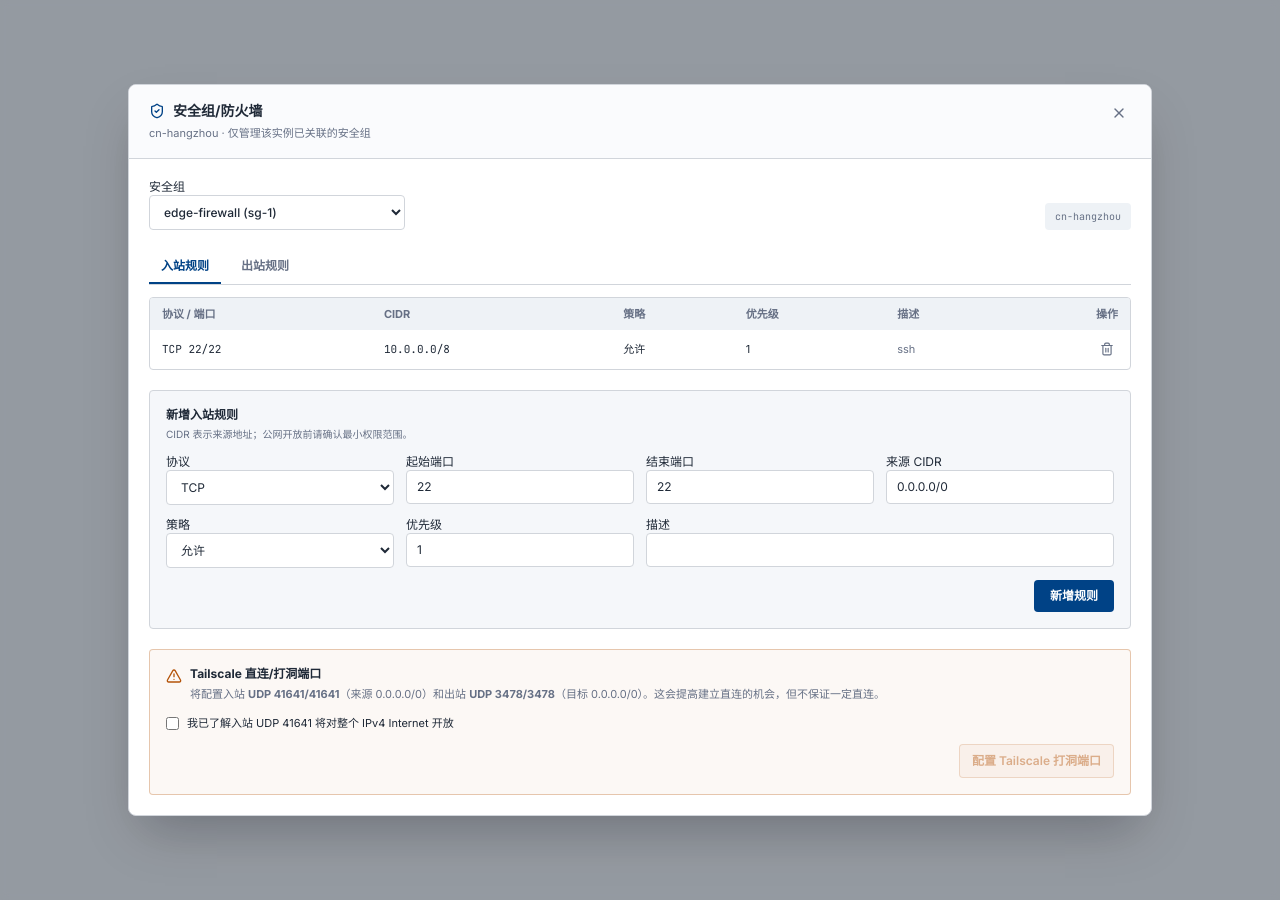
InstanceFirewallModal › shows the provider outcome when the Tailscale template is only partially applied
Check: the text "UDP 41641/41641" is shown, box [248,687,339,701]
Step 1. Click the checkbox labelled "我已了解入站 UDP 41641 将对整个 IPv4 Internet 开放" → (172, 724), box [166,717,179,730]
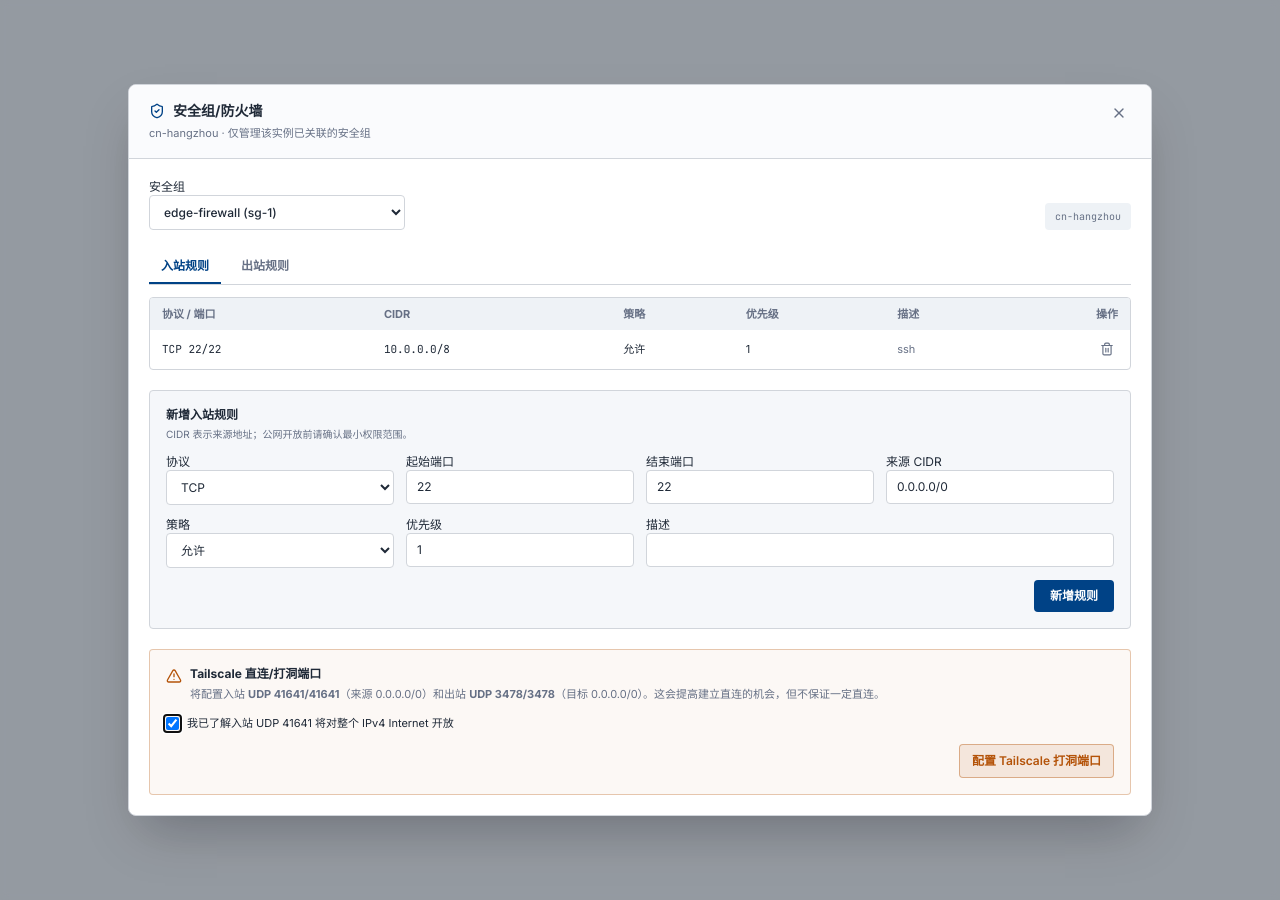
Step 2. Click the button "配置 Tailscale 打洞端口" → (1036, 761), box [959,744,1114,778]
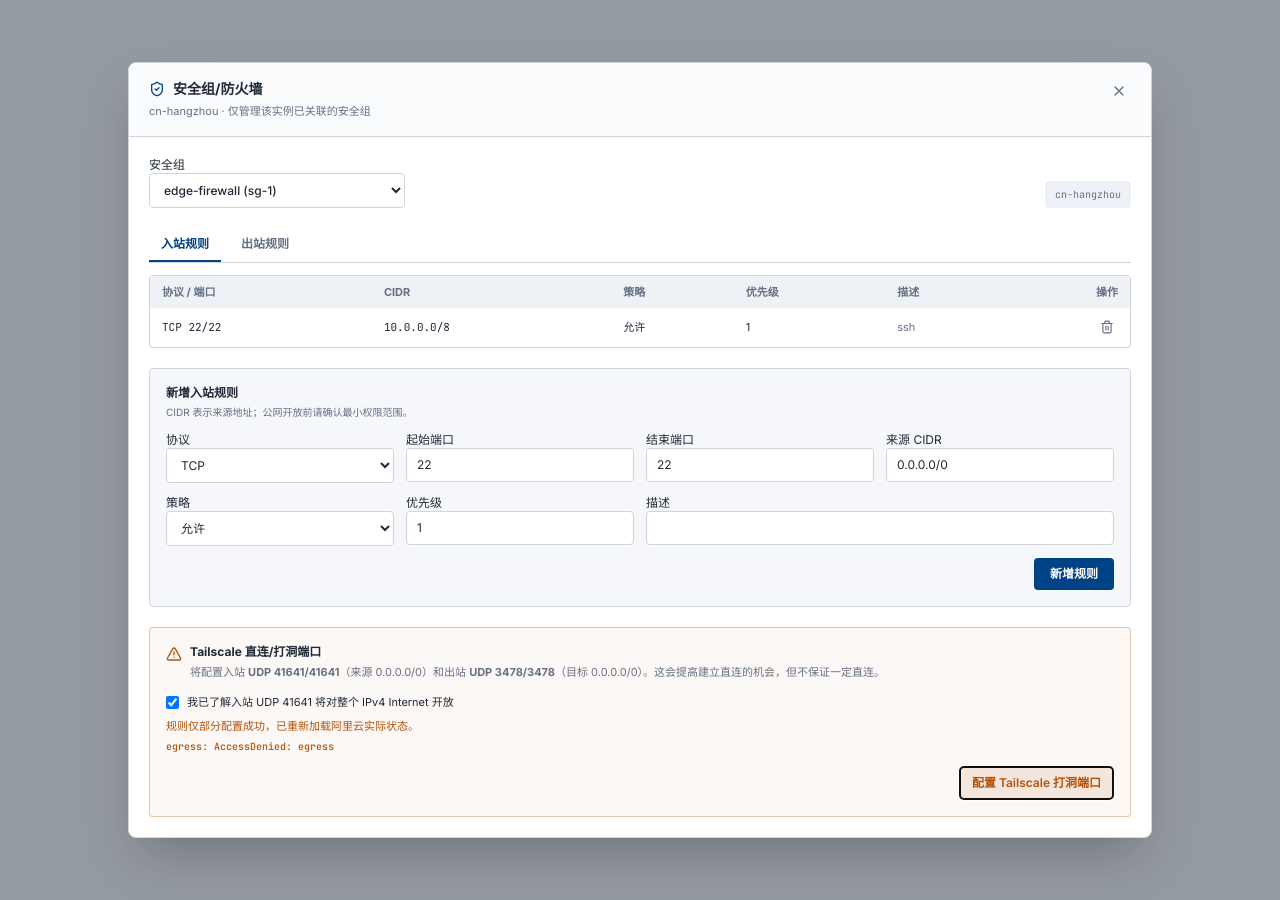
Check: the text "规则仅部分配置成功，已重新加载阿里云实际状态。" is shown, box [166,719,419,733]
Check: the text "egress: AccessDenied: egress" is shown, box [166,740,334,753]
